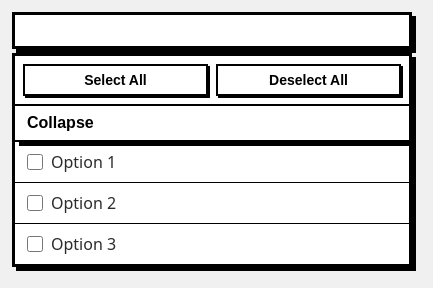
Test case: Select Component › Multi Select Mode › maintains selected state after collapse/expand
Click the checkbox labelled "Option 1" at point(35, 162), box [27,154,43,170]
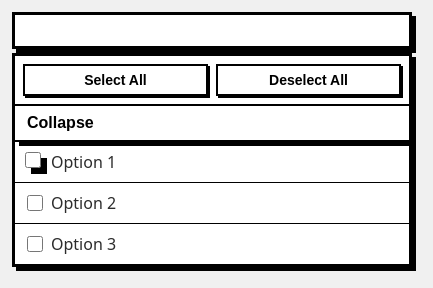
Click the button "Collapse" at point(60, 122), box [15,106,409,142]
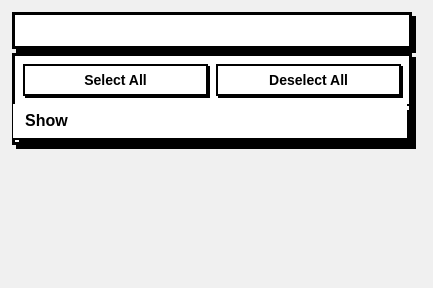
Click the button "Show" at point(46, 120), box [13,104,407,140]
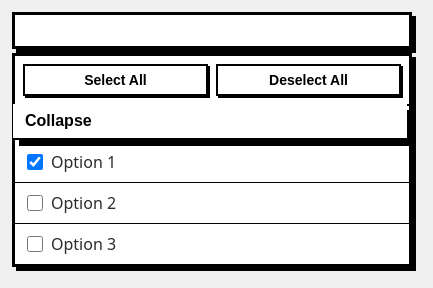
Expected: the checkbox labelled "Option 1" is checked, [27,154,43,170]
